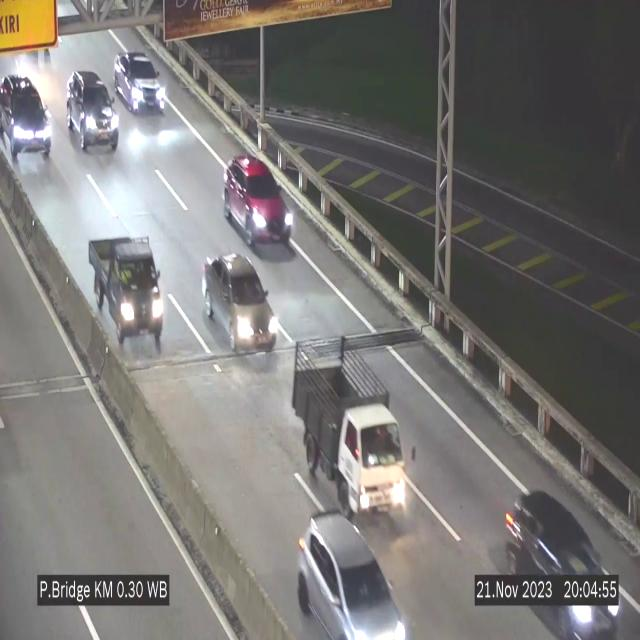Car: (498, 472, 634, 640), (292, 333, 408, 518), (297, 514, 408, 640), (205, 253, 277, 355), (224, 156, 290, 250), (0, 72, 54, 166), (67, 71, 119, 152), (114, 51, 166, 113)
Truck: (89, 238, 167, 362)
